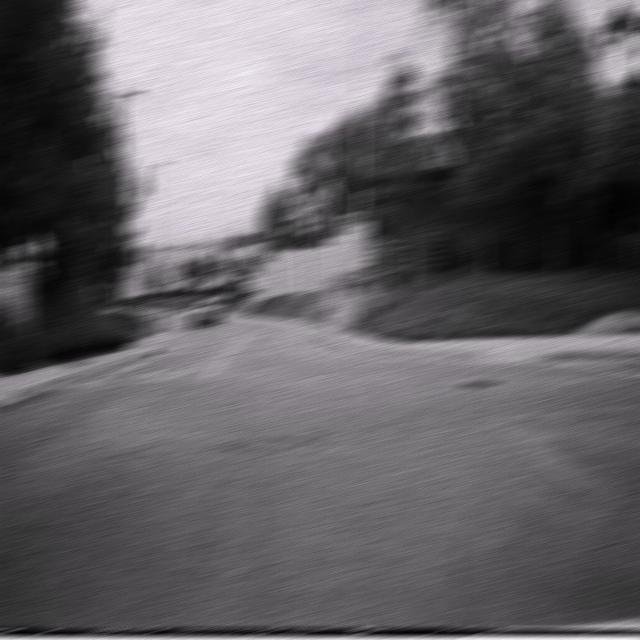speedLimit25: (355, 221, 373, 250)
